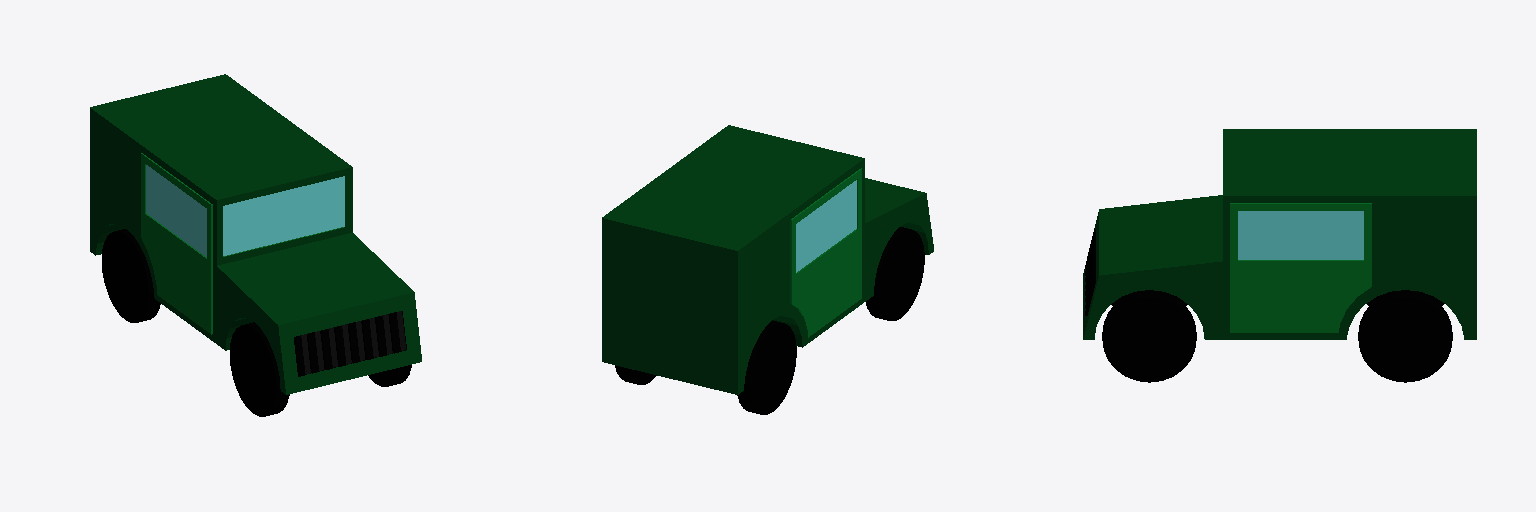
Rendered from car.obj.
3 renders of one model, left to right at view 1: azimuth 30°, elevation 25°; view 2: azimuth 150°, elevation 25°; view 3: azimuth 270°, elevation 25°, orthographic.
Parts seen in each view (by area): view 1: Sketchup; view 2: Sketchup; view 3: Sketchup.
Part boxes in pixels (bbox=[...]): Sketchup: bbox=[90, 74, 421, 416]; Sketchup: bbox=[602, 125, 933, 414]; Sketchup: bbox=[1083, 129, 1476, 382].
Size of the model in its own units: 0.714 by 0.917 by 1.75.